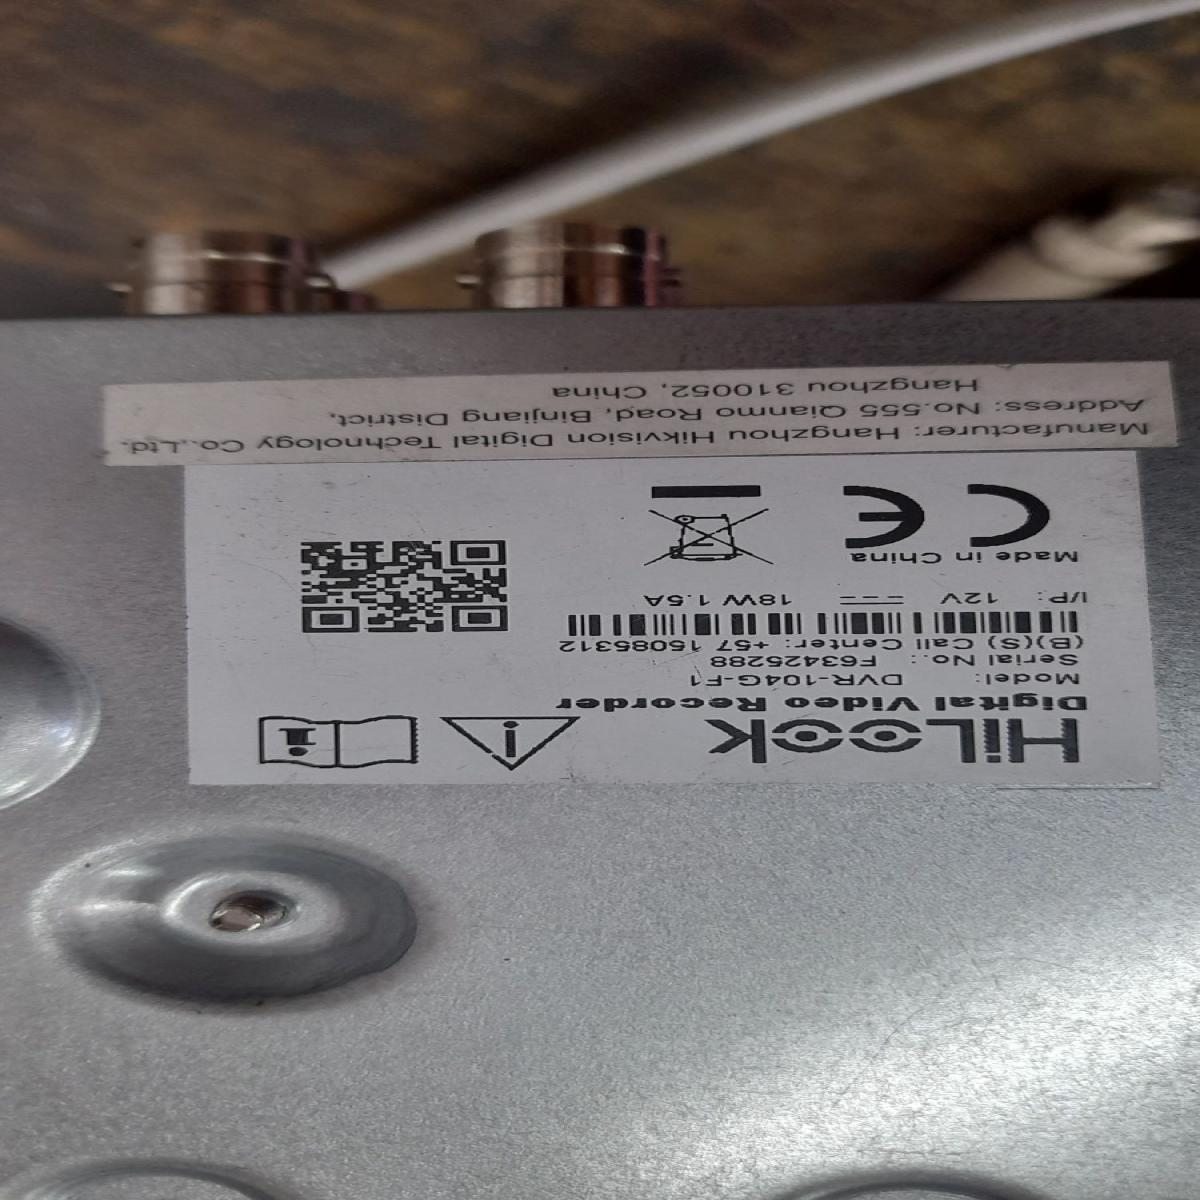Barcode: (562, 608, 1090, 640)
Label: (182, 456, 1146, 780)
